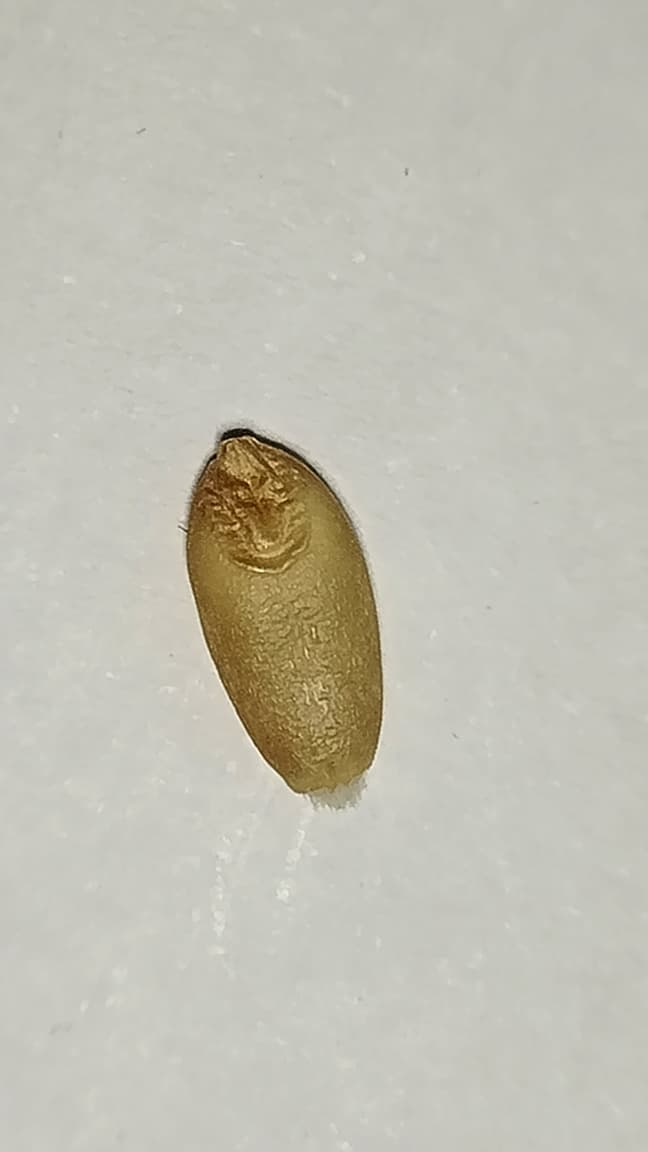healthy: (187, 429, 382, 792)
